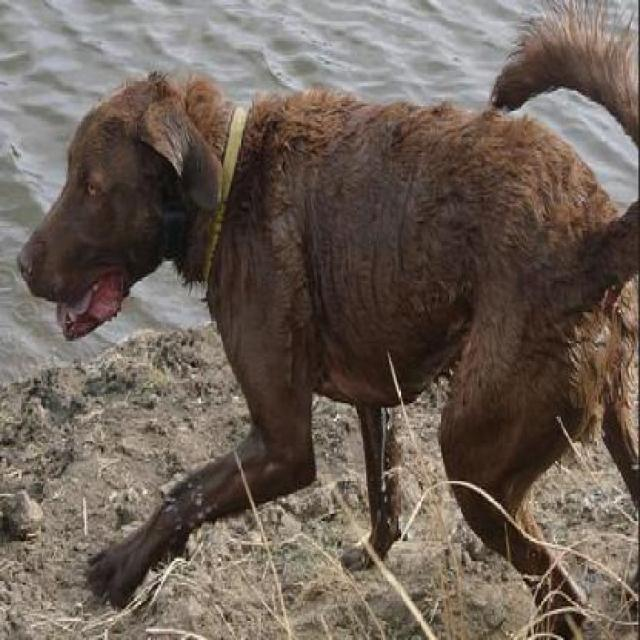Dog: (19, 0, 638, 638)
